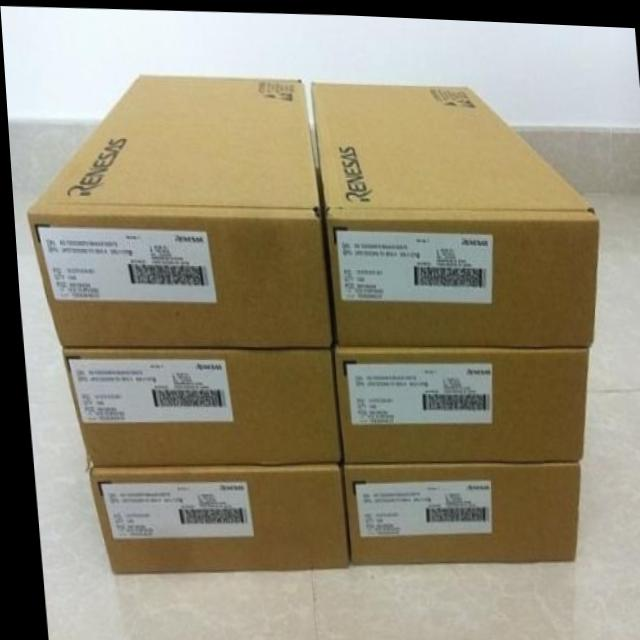box: (24, 72, 327, 346), (309, 80, 598, 343), (57, 344, 335, 468), (82, 460, 343, 575), (329, 343, 584, 460), (338, 456, 573, 563)
